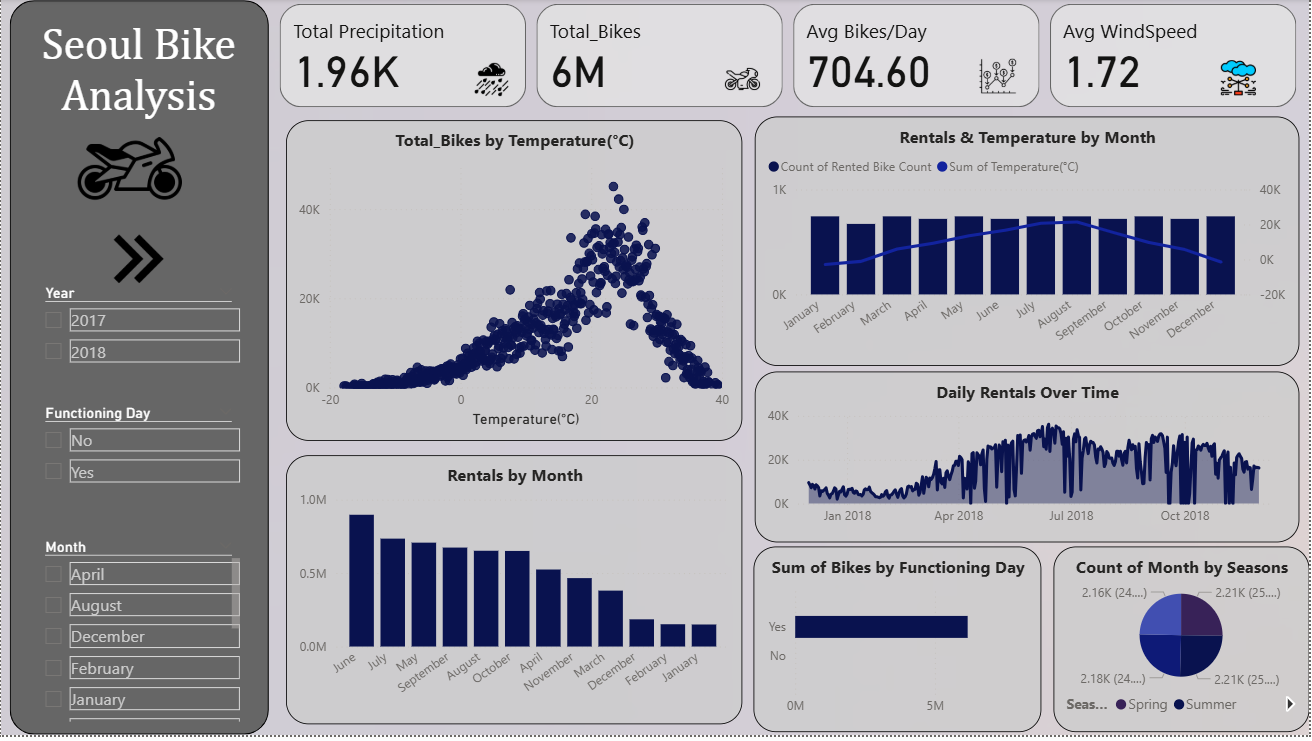

The dashboard page shown, as its layout file describes it:
{"tool":"powerbi","page":{"name":"Overview","canvas":[1280,720],"ordinal":0},"visuals":[{"type":"shape","box":[0,1.2,261.7,719],"z":0},{"type":"slicer","fields":{"Values":["SeoulBikeData.Date.Variation.Date Hierarchy.Year"]},"box":[30.2,274.4,208.6,111.1],"z":1000},{"type":"slicer","fields":{"Values":["SeoulBikeData.Functioning Day"]},"box":[30,391.7,208.3,113.3],"z":2000},{"type":"cardVisual","fields":{"Data":["SeoulBikeData.Total Precipitation","SeoulBikeData.Total_Bikes","SeoulBikeData.Avg Bikes/Day","SeoulBikeData.Avg WindSpeed"]},"box":[267.6,0,1005.8,111.1],"z":3000},{"type":"image","box":[1184.2,54.9,53.5,43.9],"z":4000},{"type":"image","box":[694.3,56.3,61.7,43.9],"z":5000},{"type":"image","box":[450.1,56.3,60.4,43.9],"z":6000},{"type":"image","box":[944.1,50.8,63.1,48],"z":7000},{"type":"columnChart","title":"Rentals by Month","fields":{"Y":["Sum(SeoulBikeData.Rented Bike Count)"],"Category":["SeoulBikeData.Month"]},"box":[278.3,446.7,446.7,263.3],"z":8000},{"type":"slicer","fields":{"Values":["SeoulBikeData.Month"]},"box":[30,521.7,208.3,190],"z":9000},{"type":"clusteredBarChart","title":"Sum of Bikes by Functioning Day","fields":{"Category":["SeoulBikeData.Functioning Day"],"Y":["Sum(SeoulBikeData.Rented Bike Count)"]},"box":[736.7,535,281.7,181.7],"z":10000},{"type":"lineStackedColumnComboChart","title":"Rentals & Temperature by Month","fields":{"Y2":["Sum(SeoulBikeData.Temperature(°C))"],"Y":["CountNonNull(SeoulBikeData.Rented Bike Count)"],"Category":["SeoulBikeData.Date.Variation.Date Hierarchy.Month"]},"box":[736.9,115.3,532.4,244.3],"z":11000},{"type":"areaChart","title":"Daily Rentals Over Time","fields":{"Y":["Sum(SeoulBikeData.Rented Bike Count)"],"Category":["SeoulBikeData.Date"]},"box":[736.9,365,532.4,167.4],"z":12000},{"type":"textbox","box":[30,18.3,208.3,198.3],"z":13000},{"type":"image","box":[22,106.4,207.9,118.6],"z":14000},{"type":"pieChart","fields":{"Category":["SeoulBikeData.Seasons"],"Y":["CountNonNull(SeoulBikeData.Month)"]},"box":[1030,535,250,181.7],"z":16000},{"type":"scatterChart","fields":{"X":["SeoulBikeData.Temperature(°C)"],"Y":["SeoulBikeData.Total_Bikes"]},"box":[278.3,118.3,446.7,313.3],"z":17000},{"type":"image","box":[101.5,225,66,58.7],"z":17001}]}

Visuals, with their boxes in screenshot pixels (x1, y1, x2, y2), scaled from the page's 1280x720 canvas onto the 1312x741 screenshot:
shape: <region>0, 1, 268, 740</region>
slicer - SeoulBikeData.Date.Variation.Date Hierarchy.Year: <region>31, 282, 245, 397</region>
slicer - SeoulBikeData.Functioning Day: <region>31, 403, 244, 520</region>
cardVisual - SeoulBikeData.Total Precipitation x SeoulBikeData.Total_Bikes: <region>274, 0, 1305, 114</region>
image: <region>1214, 57, 1269, 102</region>
image: <region>712, 58, 775, 103</region>
image: <region>461, 58, 523, 103</region>
image: <region>968, 52, 1032, 102</region>
"Rentals by Month" columnChart: <region>285, 460, 743, 731</region>
slicer - SeoulBikeData.Month: <region>31, 537, 244, 732</region>
"Sum of Bikes by Functioning Day" clusteredBarChart: <region>755, 551, 1044, 738</region>
"Rentals & Temperature by Month" lineStackedColumnComboChart: <region>755, 119, 1301, 370</region>
"Daily Rentals Over Time" areaChart: <region>755, 376, 1301, 548</region>
textbox: <region>31, 19, 244, 223</region>
image: <region>23, 110, 236, 232</region>
pieChart - SeoulBikeData.Seasons x CountNonNull(SeoulBikeData.Month): <region>1056, 551, 1311, 738</region>
scatterChart - SeoulBikeData.Temperature(°C) x SeoulBikeData.Total_Bikes: <region>285, 122, 743, 444</region>
image: <region>104, 232, 172, 292</region>
